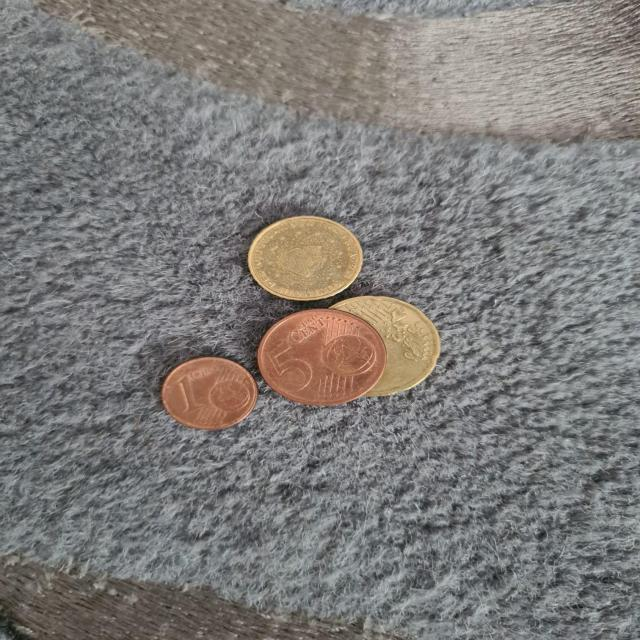10c: (237, 210, 370, 302)
1c: (154, 354, 265, 436)
20c: (326, 288, 464, 402)
5c: (243, 303, 398, 415)
